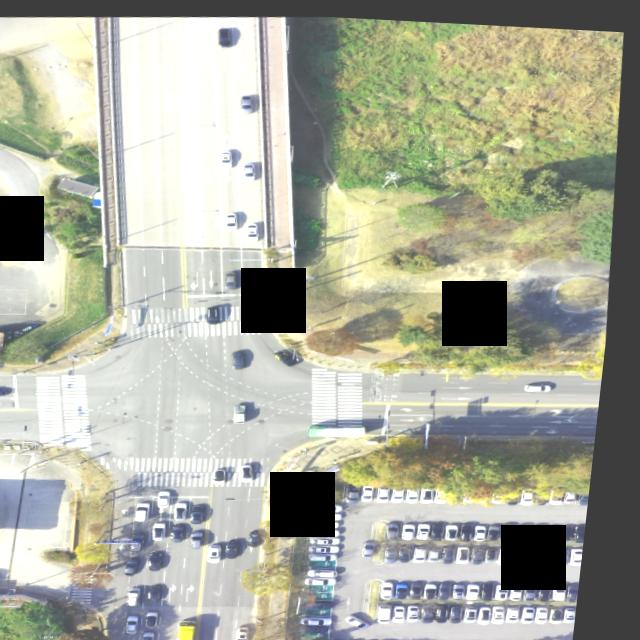car: (388, 598, 409, 618), (229, 267, 246, 287)
large_bus: (315, 417, 378, 436), (188, 616, 213, 640)
small_truck: (240, 399, 257, 419), (140, 584, 155, 604)
